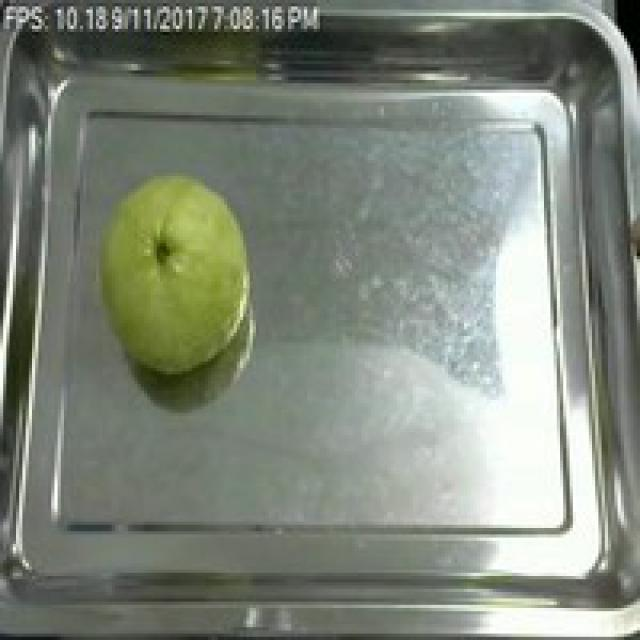Fruit: (80, 160, 262, 384)
